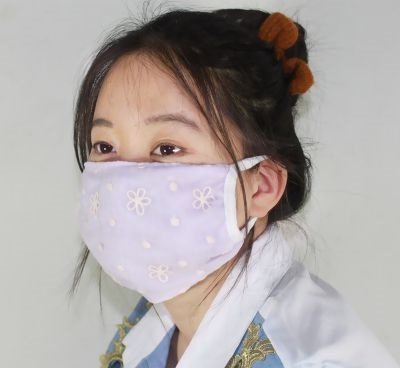face_mask: (79, 61, 238, 279)
